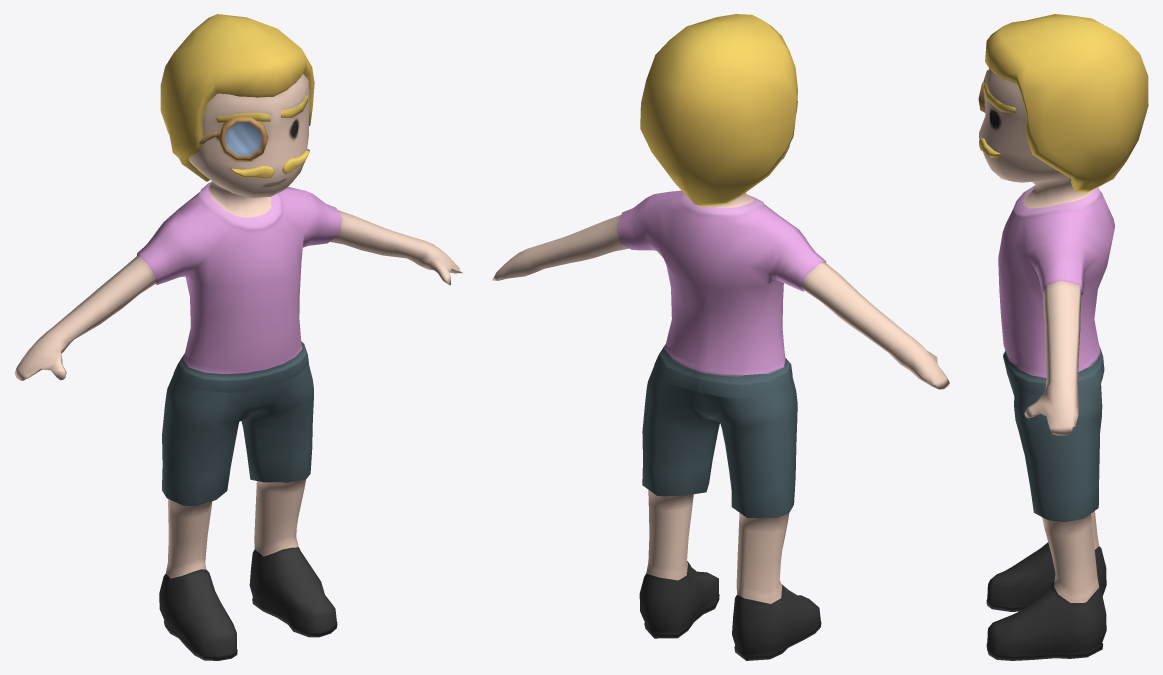
The model's file is Spiff.fbx.
3 views of the same model, side by side, from view 1: azimuth 30°, elevation 25°; view 2: azimuth 150°, elevation 25°; view 3: azimuth 270°, elevation 25° (orthographic).
Visible parts, largest first — view 1: polySurface134; view 2: polySurface134; view 3: polySurface134.
Part boxes in pixels (box(x1,y1,x2,y2)): polySurface134: box(14, 14, 462, 660); polySurface134: box(492, 14, 949, 660); polySurface134: box(978, 14, 1148, 660).
Bounding box in the file's own units: 108 × 139 × 35.36.
